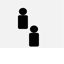human: (16, 7, 28, 29), (28, 24, 39, 47)
